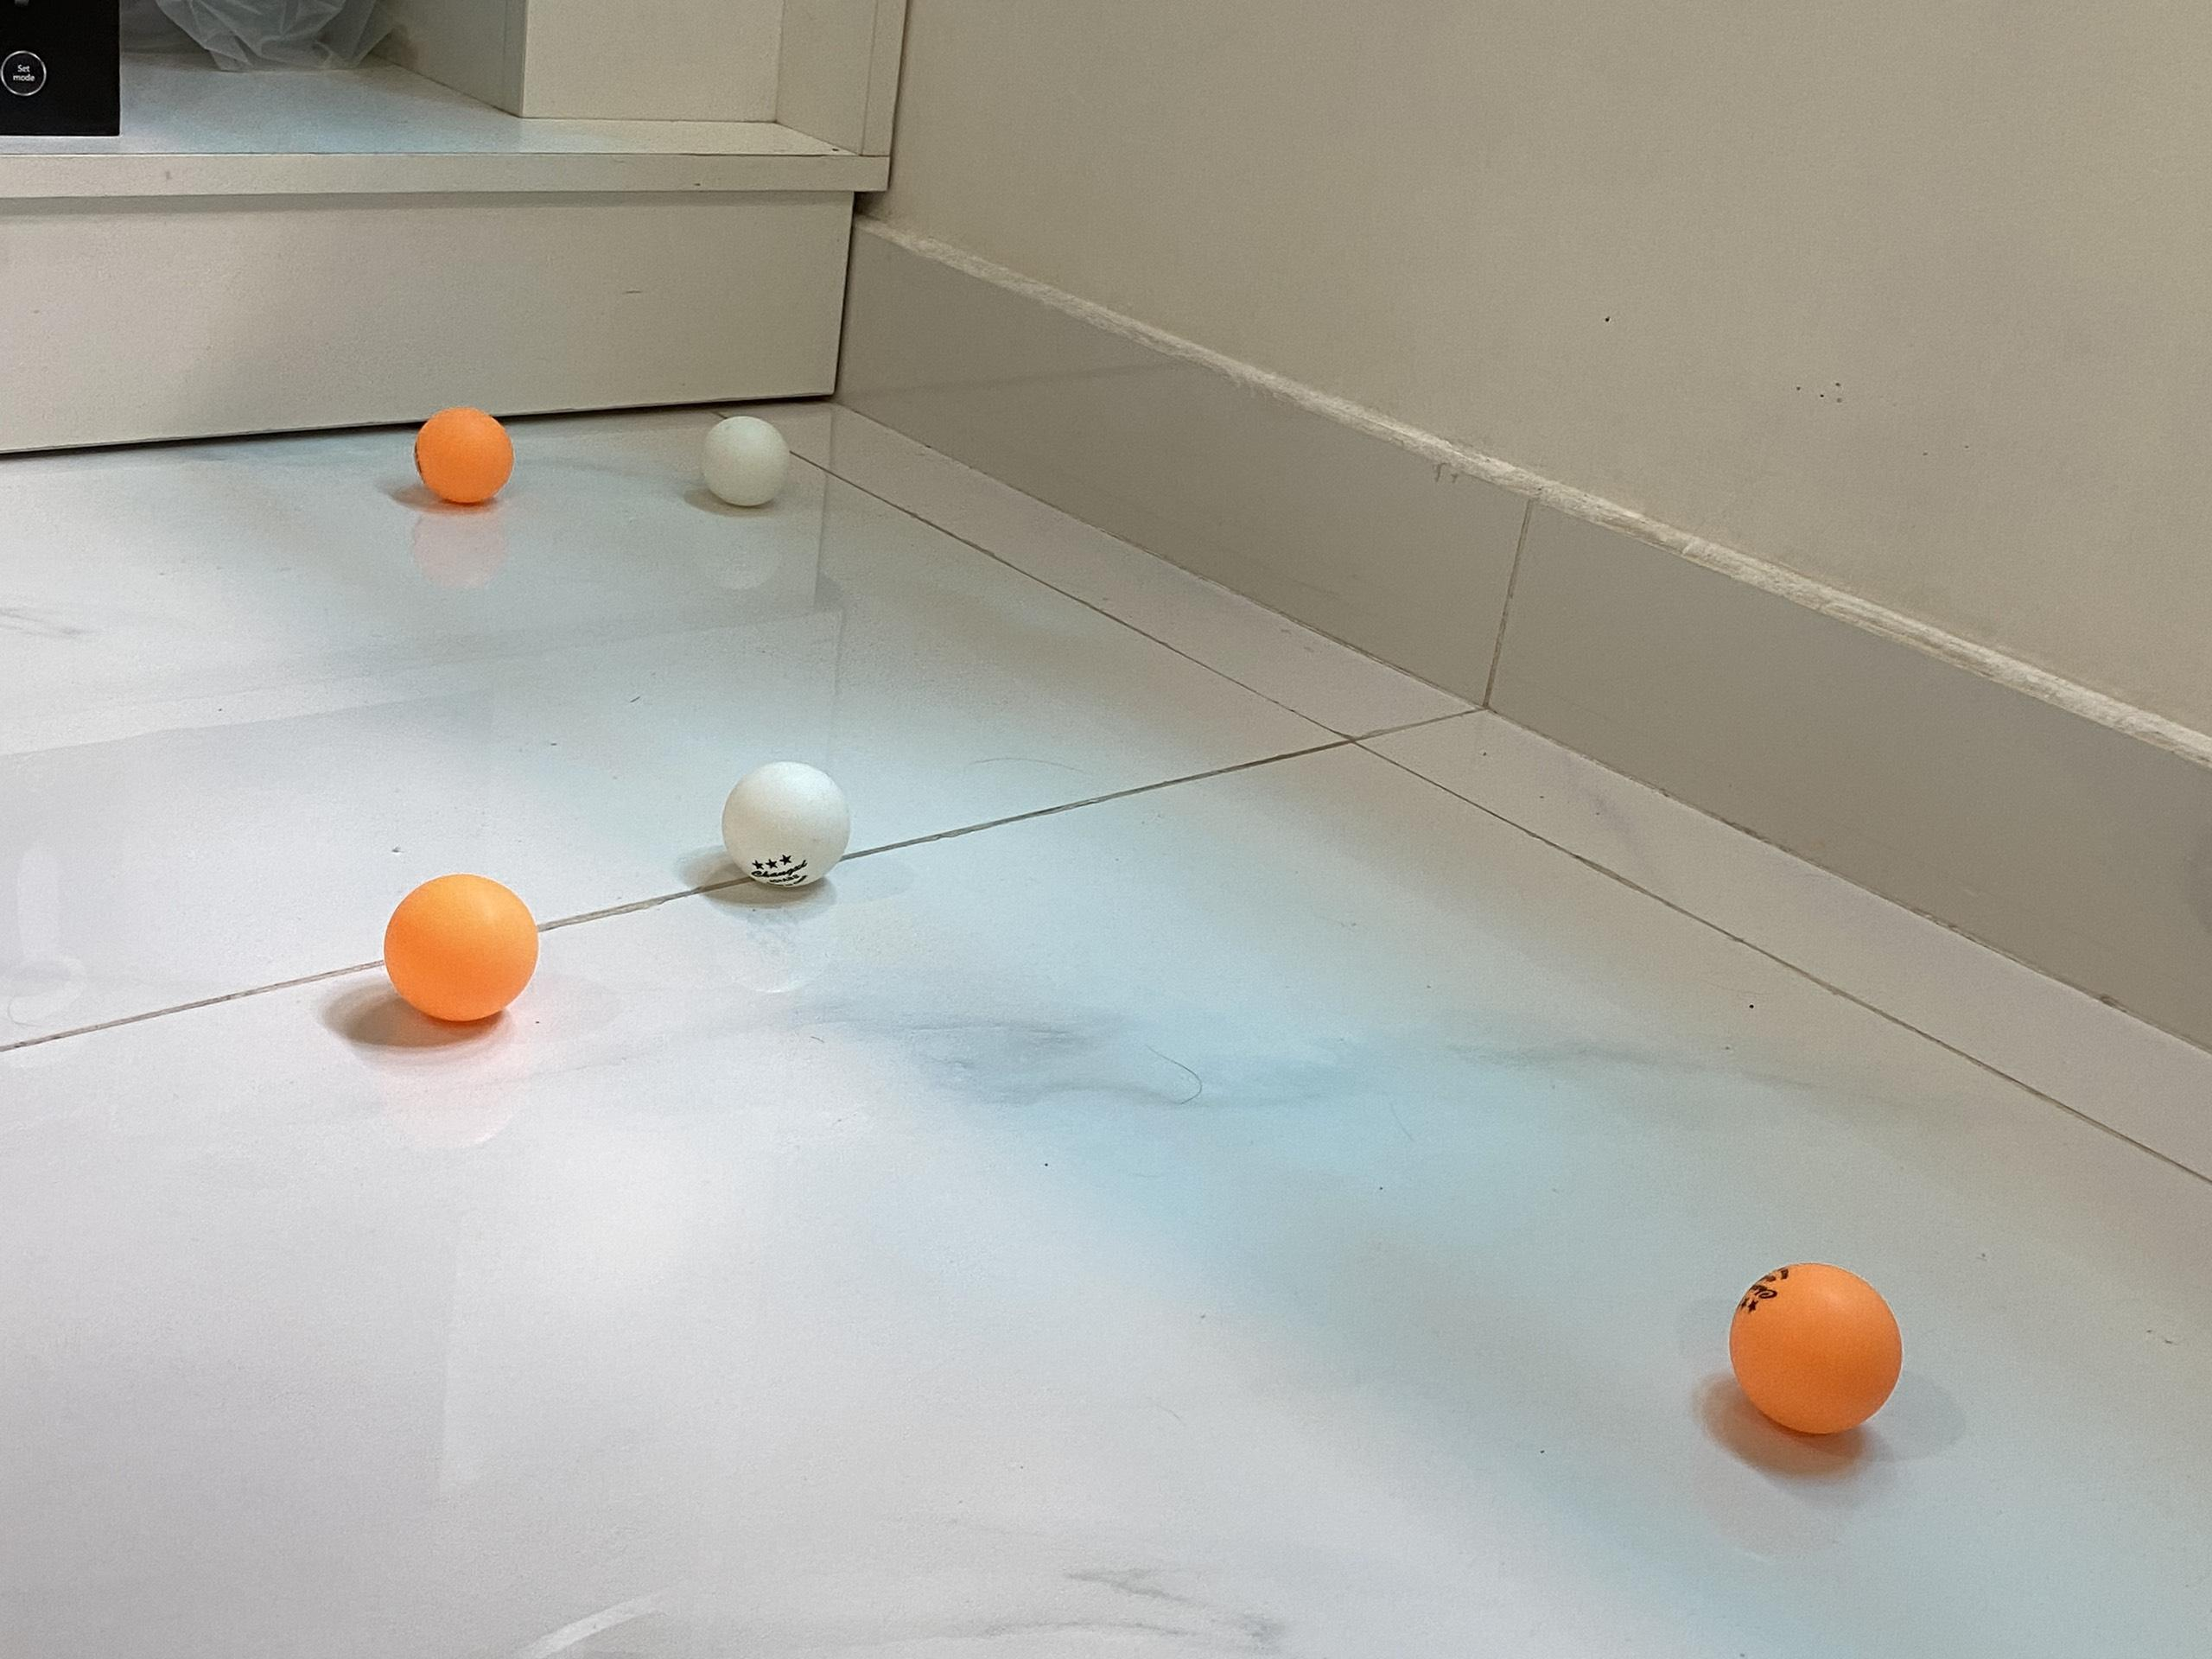oball: (1730, 1255, 1907, 1436), (388, 873, 538, 1019), (726, 760, 852, 885), (415, 406, 516, 505), (702, 415, 791, 507)
